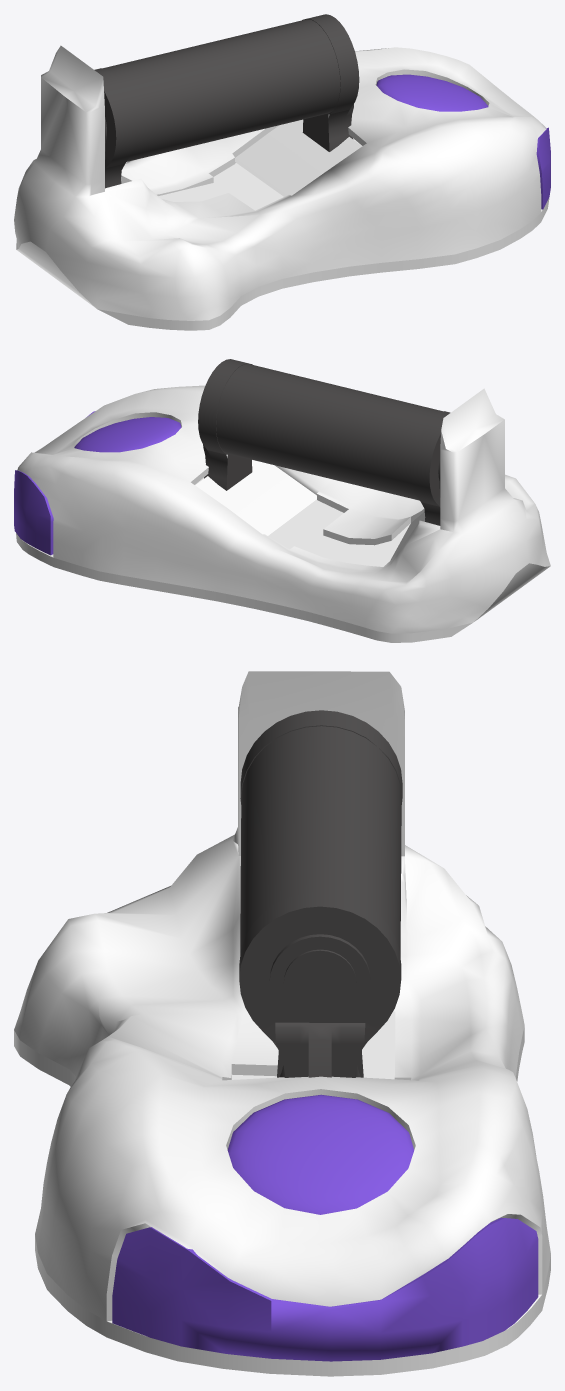
File: RAnkleRoll.dae
3 views of the same model, one above another, from view 1: azimuth 30°, elevation 25°; view 2: azimuth 150°, elevation 25°; view 3: azimuth 270°, elevation 25° (orthographic). The views are drawn at different scales.
Visible parts, largest first — view 1: RAnkleRoll; view 2: RAnkleRoll; view 3: RAnkleRoll.
Boxes of the visible parts, x1=… form: RAnkleRoll: x1=14, y1=14, x2=550, y2=330; RAnkleRoll: x1=14, y1=359, x2=550, y2=642; RAnkleRoll: x1=14, y1=671, x2=550, y2=1376.
Bounding box in the file's own units: 1.6 × 0.9049 × 0.6467.
1 material, 1 textured.
